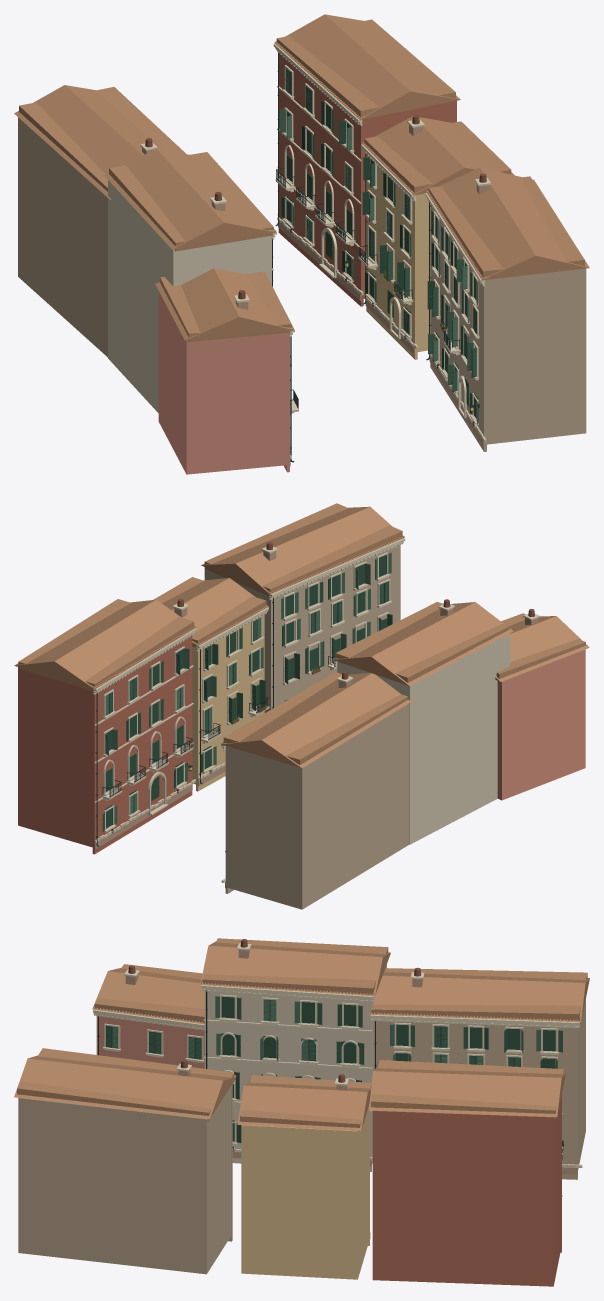
Rendered from canal-07.glb.
The picture shows the model from 3 angles, top to bottom: view 1: azimuth 30°, elevation 25°; view 2: azimuth 150°, elevation 25°; view 3: azimuth 270°, elevation 25°; orthographic projection. The views are drawn at different scales.
Parts seen in each view (by area): view 1: Main elevations / kit:roof, Main elevations / kit:walls:5, Distant elevations / kit:roof, Main elevations / kit:walls:1, Main elevations / kit:stone, Main elevations / kit:walls:3, Distant elevations / kit:walls:4, Main elevations / kit:walls:2, Main elevations / kit:walls:4, Main elevations / kit:greenDark, Main elevations / kit:green, Distant elevations / kit:greenDark (+8 smaller); view 2: Main elevations / kit:roof, Main elevations / kit:walls:5, Main elevations / kit:walls:4, Main elevations / kit:walls:3, Distant elevations / kit:roof, Main elevations / kit:stone, Main elevations / kit:walls:1, Distant elevations / kit:walls:4, Distant elevations / kit:walls:5, Distant elevations / kit:greenDark, Main elevations / kit:walls:2, Main elevations / kit:greenDark (+6 smaller); view 3: Main elevations / kit:walls:5, Main elevations / kit:roof, Main elevations / kit:walls:4, Main elevations / kit:walls:2, Distant elevations / kit:roof, Main elevations / kit:stone, Distant elevations / kit:walls:3, Distant elevations / kit:walls:5, Distant elevations / kit:greenDark, Main elevations / kit:green, Main elevations / kit:greenDark, Main elevations / kit:walls:3 (+5 smaller).
Boxes of the visible parts, left/top/right/bottom form: Main elevations / kit:roof: left=14, top=14, right=589, bottom=340; Main elevations / kit:walls:5: left=18, top=117, right=586, bottom=451; Distant elevations / kit:roof: left=19, top=19, right=584, bottom=341; Main elevations / kit:walls:1: left=158, top=291, right=289, bottom=474; Main elevations / kit:stone: left=140, top=43, right=490, bottom=458; Main elevations / kit:walls:3: left=108, top=180, right=218, bottom=412; Distant elevations / kit:walls:4: left=279, top=53, right=363, bottom=299; Main elevations / kit:walls:2: left=366, top=153, right=430, bottom=359; Main elevations / kit:walls:4: left=278, top=86, right=456, bottom=306; Main elevations / kit:greenDark: left=288, top=70, right=478, bottom=424; Main elevations / kit:green: left=279, top=67, right=477, bottom=414; Distant elevations / kit:greenDark: left=286, top=104, right=478, bottom=418; Main elevations / kit:roof: left=14, top=506, right=589, bottom=768; Main elevations / kit:walls:5: left=204, top=562, right=409, bottom=909; Main elevations / kit:walls:4: left=18, top=636, right=192, bottom=854; Main elevations / kit:walls:3: left=337, top=633, right=509, bottom=844; Distant elevations / kit:roof: left=18, top=503, right=585, bottom=765; Main elevations / kit:stone: left=93, top=538, right=539, bottom=882; Main elevations / kit:walls:1: left=500, top=649, right=585, bottom=800; Distant elevations / kit:walls:4: left=92, top=645, right=188, bottom=846; Distant elevations / kit:walls:5: left=207, top=545, right=400, bottom=887; Distant elevations / kit:greenDark: left=104, top=555, right=387, bottom=828; Main elevations / kit:walls:2: left=192, top=616, right=263, bottom=791; Main elevations / kit:greenDark: left=109, top=578, right=392, bottom=788; Main elevations / kit:walls:5: left=18, top=999, right=585, bottom=1274; Main elevations / kit:roof: left=14, top=941, right=589, bottom=1131; Main elevations / kit:walls:4: left=372, top=1094, right=561, bottom=1286; Main elevations / kit:walls:2: left=241, top=1105, right=369, bottom=1279; Distant elevations / kit:roof: left=17, top=938, right=587, bottom=1131; Main elevations / kit:stone: left=93, top=943, right=582, bottom=1196; Distant elevations / kit:walls:3: left=219, top=966, right=386, bottom=1163; Distant elevations / kit:walls:5: left=207, top=1024, right=556, bottom=1272; Distant elevations / kit:greenDark: left=112, top=996, right=555, bottom=1141; Main elevations / kit:green: left=112, top=996, right=562, bottom=1159; Main elevations / kit:greenDark: left=106, top=1004, right=543, bottom=1142; Main elevations / kit:walls:3: left=204, top=964, right=386, bottom=1171.
Bounding box in the file's own units: 36.99 × 18.42 × 46.65.
